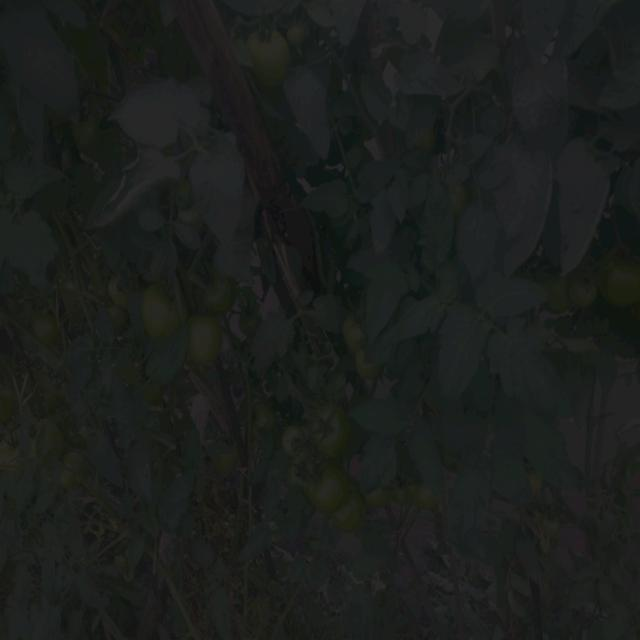tomato: (252, 30, 300, 92), (193, 266, 240, 322), (148, 281, 185, 343), (311, 398, 354, 451), (602, 250, 640, 309), (187, 317, 226, 365), (314, 464, 349, 511), (166, 195, 207, 225), (366, 481, 407, 507), (571, 276, 599, 311), (546, 270, 577, 301), (1, 432, 28, 466), (286, 10, 311, 46), (341, 320, 366, 355), (412, 481, 443, 508), (293, 452, 315, 488), (71, 114, 93, 149), (334, 501, 364, 526), (106, 272, 130, 302), (35, 310, 61, 337), (358, 356, 381, 385), (17, 418, 55, 435), (450, 182, 473, 210), (283, 430, 303, 451)
